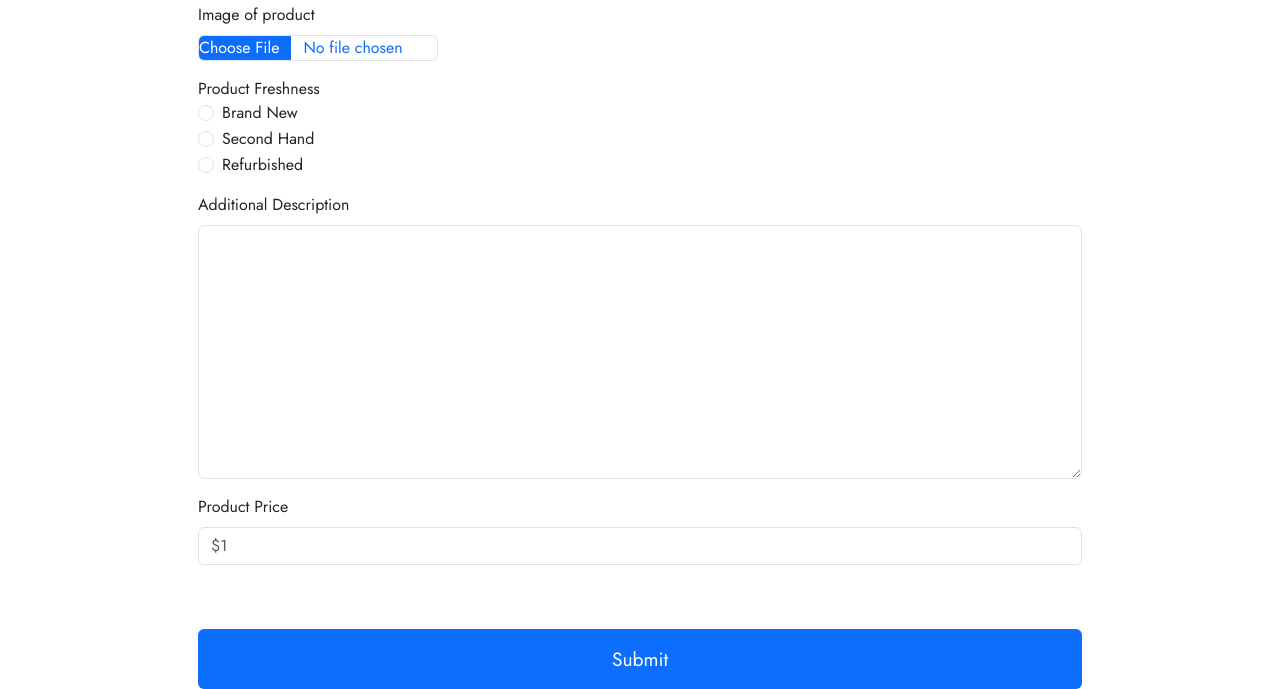
Test case: should show errors for invalid input
(page scrolled)
# Submit the form without filling out any fields
Click the button "Submit" at (640, 659), box 198,629 -> 1082,688
(page scrolled)
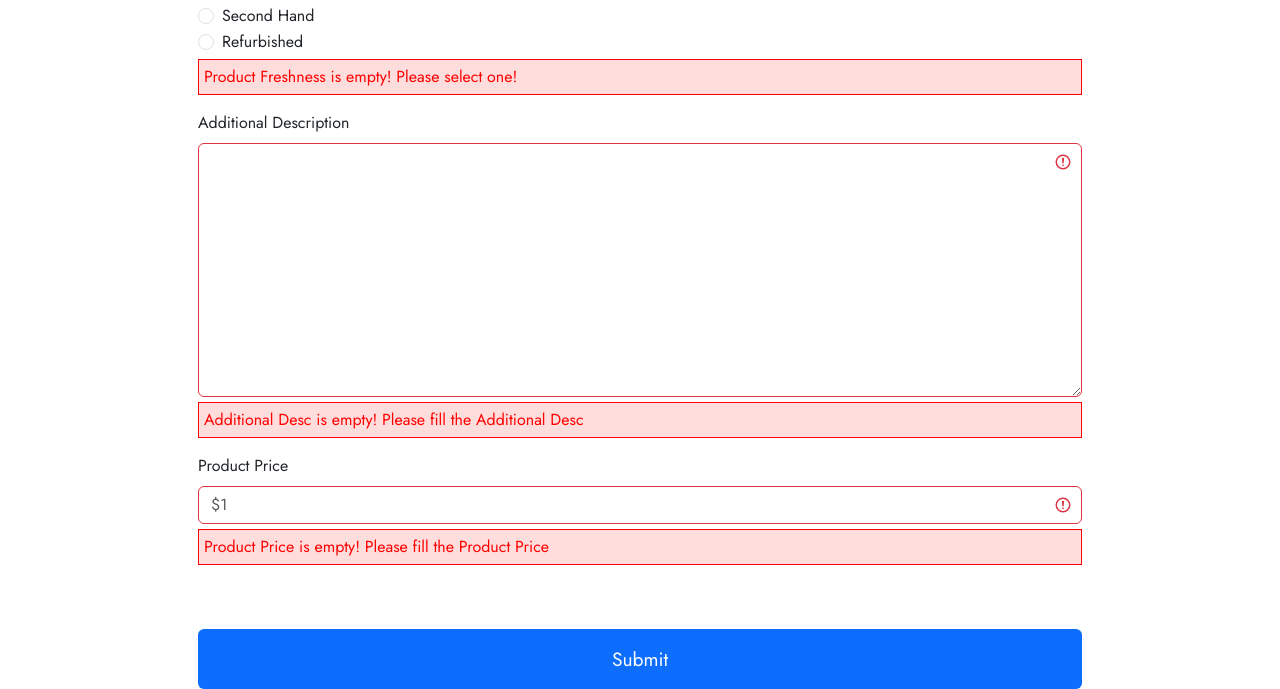
Now the text "Product Freshness is empty! Please select one!" is shown, box 198,59 -> 1082,95
Now the text "Additional Desc is empty! Please fill the Additional Desc" is shown, box 198,402 -> 1082,438
Now the text "Product Price is empty! Please fill the Product Price" is shown, box 198,529 -> 1082,565
